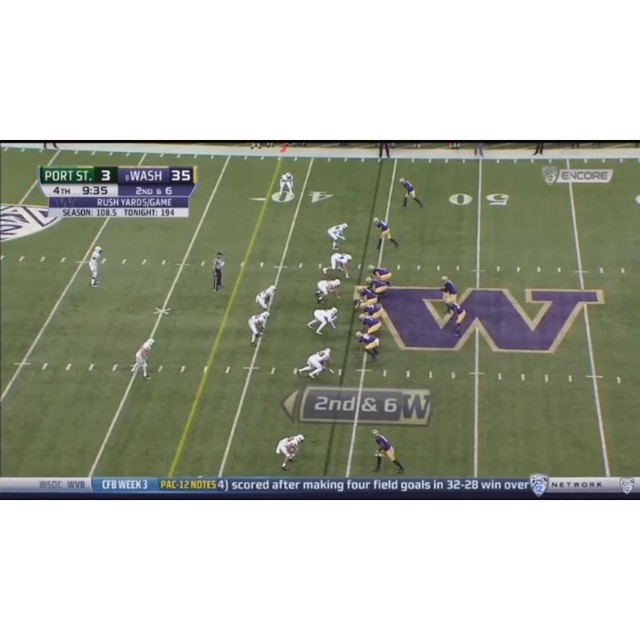american-football-player: (371, 428, 405, 473), (295, 347, 334, 379), (276, 433, 306, 471), (441, 297, 468, 336), (130, 338, 155, 379), (321, 252, 353, 279), (373, 217, 400, 249), (307, 308, 338, 335), (355, 330, 381, 362), (399, 177, 424, 209), (248, 311, 270, 347), (314, 279, 342, 303), (327, 222, 349, 250), (353, 284, 380, 306), (255, 285, 277, 312), (358, 313, 383, 336), (89, 246, 103, 287), (367, 276, 389, 299), (368, 264, 392, 285)
referee: (212, 250, 225, 292)
